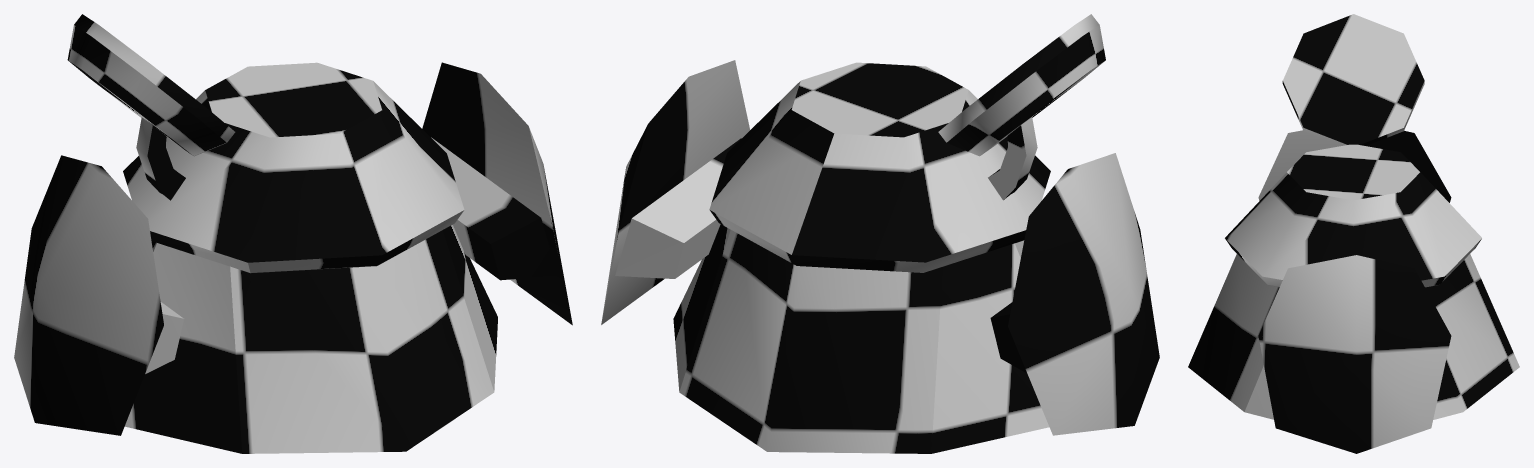
File: cbs_module_rocket_pm.obj
The picture shows the model from 3 angles, left to right: view 1: azimuth 30°, elevation 25°; view 2: azimuth 150°, elevation 25°; view 3: azimuth 270°, elevation 25°; orthographic projection. The views are drawn at different scales.
Parts seen in each view (by area): view 1: cbs_module_rocket_pm; view 2: cbs_module_rocket_pm; view 3: cbs_module_rocket_pm.
Boxes of the visible parts, box(x1,y1,x2,y2) form: cbs_module_rocket_pm: box(14, 14, 572, 453); cbs_module_rocket_pm: box(601, 14, 1159, 453); cbs_module_rocket_pm: box(1188, 14, 1519, 453).
Bounding box in the file's own units: 133 × 96.98 × 103.
Materials: 1 (1 with a texture image).
